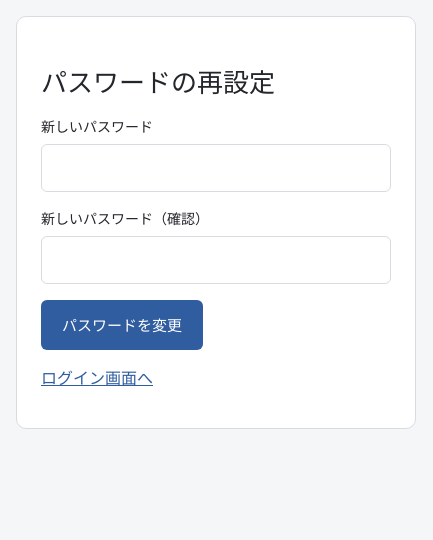
Test: ResetPasswordPage › 弱いパスワードの場合はエラーメッセージを表示しAPIを呼ばない
This screenshot has width=433, height=540.
Expected: the button "パスワードを変更" is enabled, [41,300,203,350]
Type "weakpass" into the password field labelled "新しいパスワード".
click(216, 168); type("weakpass")  # box [41,144,391,192]
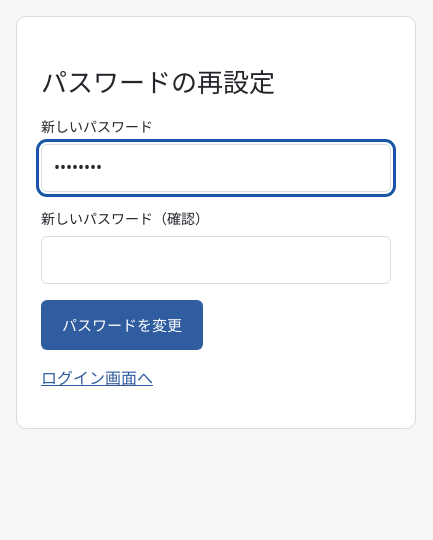
Type "weakpass" into the password field labelled "新しいパスワード（確認）".
click(216, 260); type("weakpass")  # box [41,236,391,284]
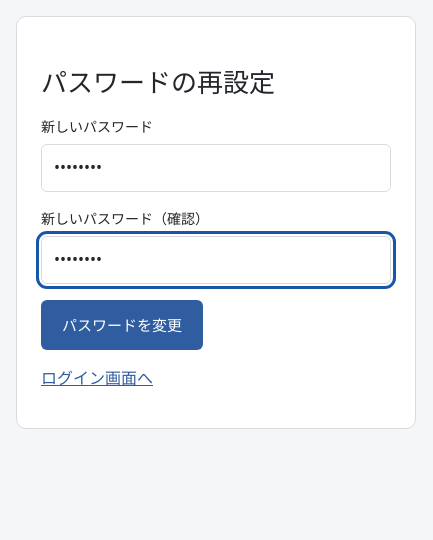
Click the button "パスワードを変更".
click(122, 325)  # box [41,300,203,350]
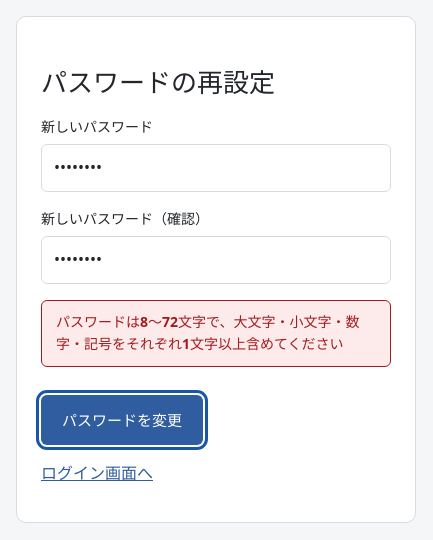
Now the message reads "パスワードは8〜72文字で、大文字・小文字・数字・記号をそれぞれ1文字以上含めてください", box [56,312,360,354]
